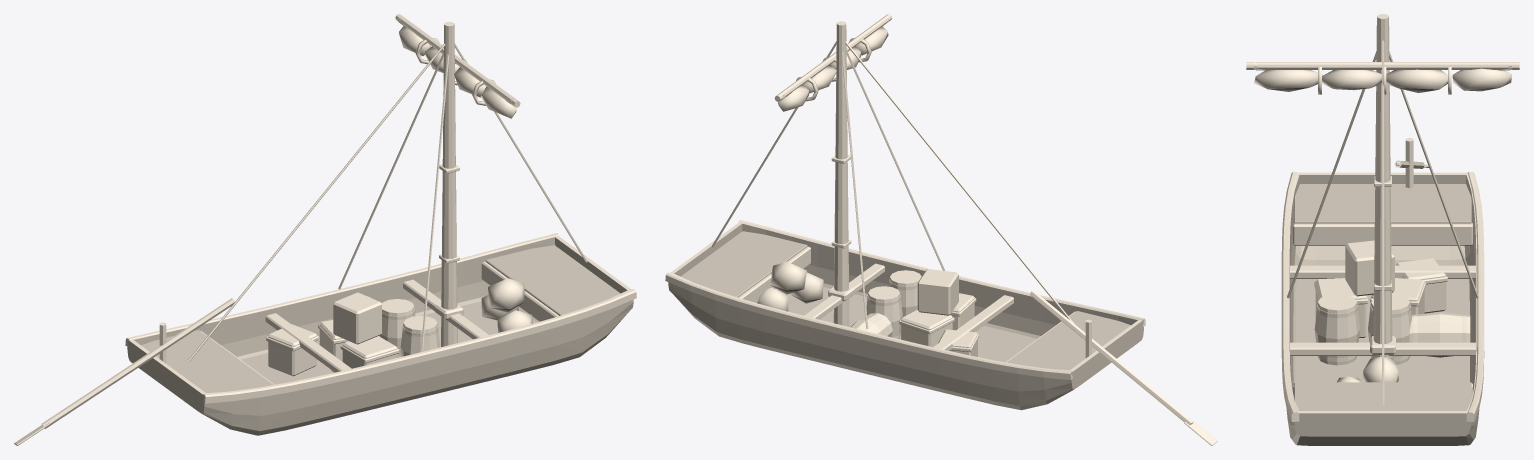
The model's file is SM_VK_Prop_Barge.fbx.
The picture shows the model from 3 angles, left to right: view 1: azimuth 30°, elevation 25°; view 2: azimuth 150°, elevation 25°; view 3: azimuth 270°, elevation 25°; orthographic projection. The views are drawn at different scales.
Parts seen in each view (by area): view 1: SM_VK_Prop_Barge.001; view 2: SM_VK_Prop_Barge.001; view 3: SM_VK_Prop_Barge.001.
Boxes of the visible parts, x1,y1,x2,y2 form: SM_VK_Prop_Barge.001: (14, 14, 636, 445); SM_VK_Prop_Barge.001: (665, 14, 1217, 445); SM_VK_Prop_Barge.001: (1246, 14, 1519, 445).
Size of the model in its own units: 9.85 by 5.58 by 3.6.
